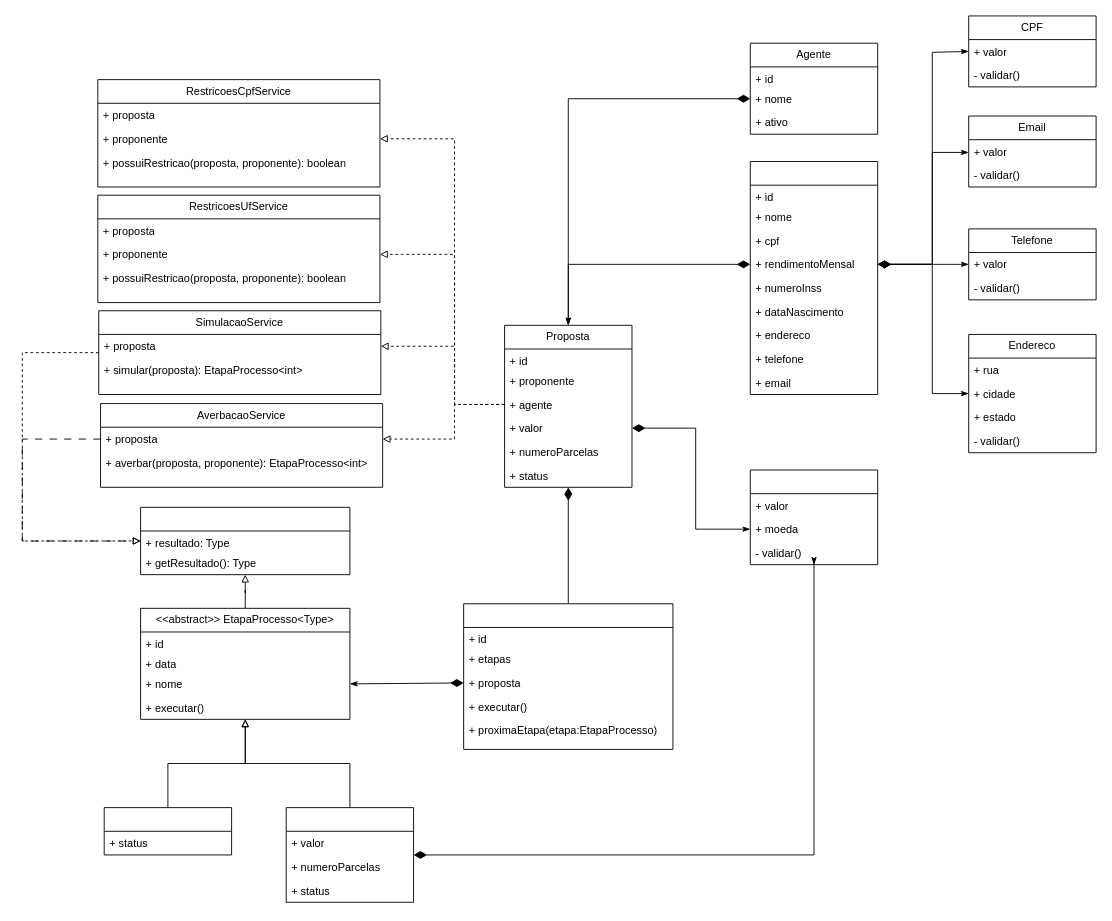
Some shapes in this 1112 by 921 pixel diagram are drawn without their labels. Here are the shapes that lost their labels. From the top down, the box of each, then its label:
(749, 161, 878, 394): Proponente
(749, 469, 878, 565): ValorMonetario
(140, 506, 350, 575): <<Interface>> ResultadoEtapa< Type >
(463, 603, 673, 749): Processamento
(103, 807, 232, 855): averbacao
(285, 807, 414, 902): Simulacao
